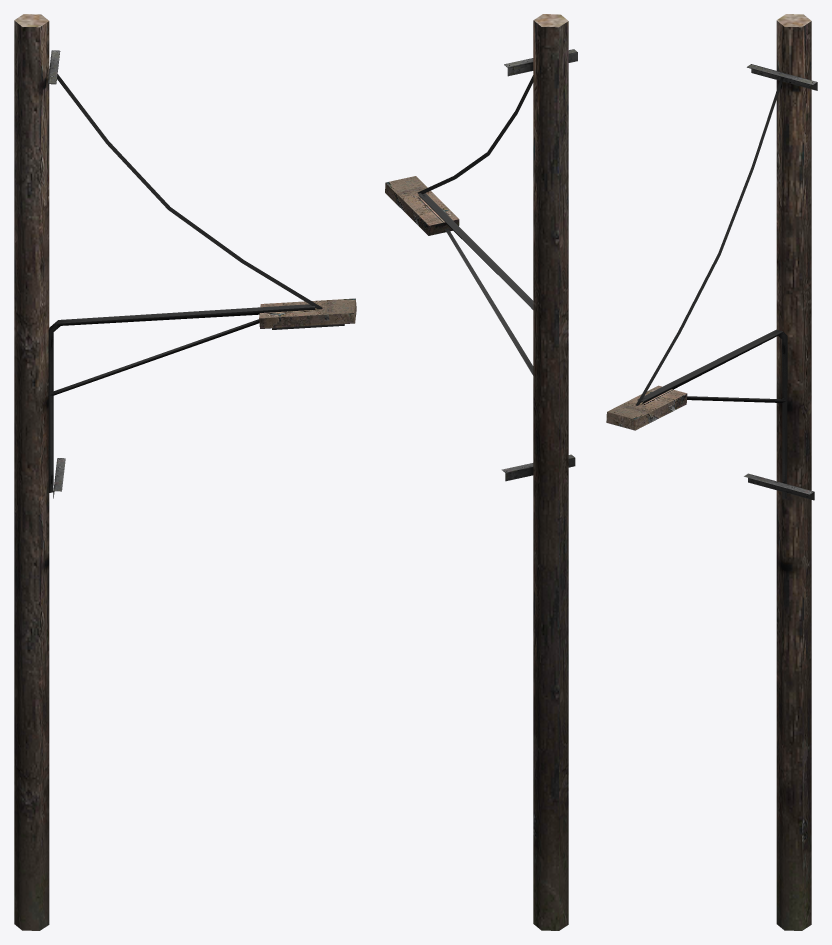
Rendered from ice_lamp.fbx.
The picture shows the model from 3 angles, left to right: view 1: azimuth 30°, elevation 25°; view 2: azimuth 150°, elevation 25°; view 3: azimuth 270°, elevation 25°; orthographic projection.
Parts seen in each view (by area): view 1: ice_zone07_propsA_pivot_Lamp_Lights_LOD1; view 2: ice_zone07_propsA_pivot_Lamp_Lights_LOD1; view 3: ice_zone07_propsA_pivot_Lamp_Lights_LOD1.
Boxes of the visible parts, x1,y1,x2,y2 form: ice_zone07_propsA_pivot_Lamp_Lights_LOD1: (14,14,356,930); ice_zone07_propsA_pivot_Lamp_Lights_LOD1: (385,14,577,930); ice_zone07_propsA_pivot_Lamp_Lights_LOD1: (606,14,817,930).
Bounding box in the file's own units: 4.2 × 13.99 × 2.96.
